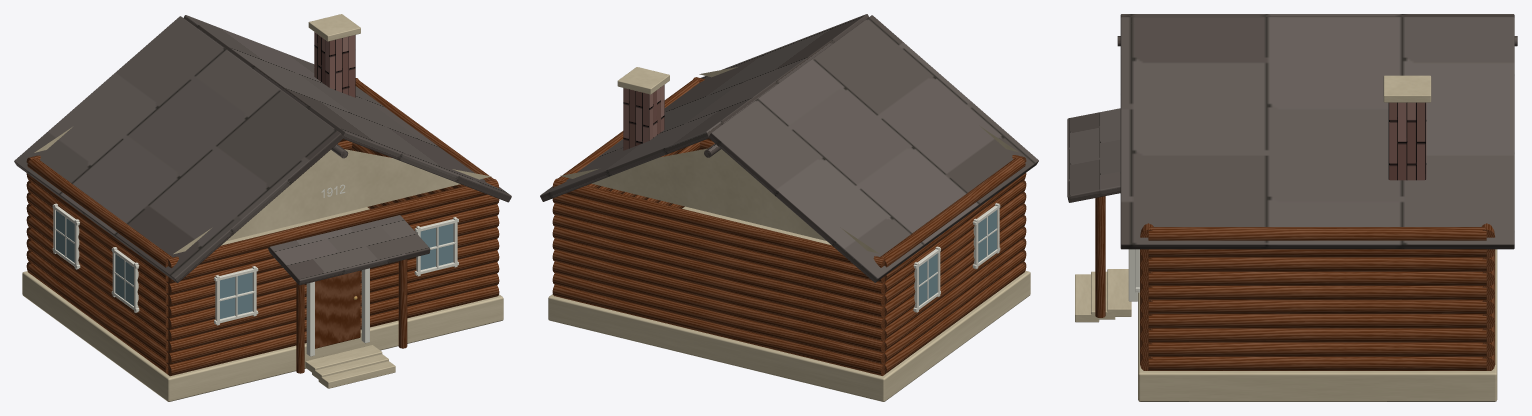
Rendered from Building_Wood_House_01_Detailed.fbx.
3 views of the same model, side by side, from view 1: azimuth 30°, elevation 25°; view 2: azimuth 150°, elevation 25°; view 3: azimuth 270°, elevation 25° (orthographic). The views are drawn at different scales.
Visible parts, largest first — view 1: Building_Wood_House_01_Roof_-1, Building_Wood_House_01, Building_Wood_House_01_Foundation, Building_Wood_House_01_Gable_-2.93, Building_Wood_House_01_Porch_Roof, Building_Wood_House_01_Log_FrontBack_9_-2.92, Building_Wood_House_01_Log_FrontBack_1_-2.92, Building_Wood_House_01_Log_FrontBack_2_-2.92, Building_Wood_House_01_Door, Building_Wood_House_01_Log_FrontBack_0_-2.92, Building_Wood_House_01_Log_FrontBack_3_-2.92, Building_Wood_House_01_Log_Side_9_-3.92 (+25 smaller); view 2: Building_Wood_House_01_Roof_-1, Building_Wood_House_01_Foundation, Building_Wood_House_01, Building_Wood_House_01_Gable_2.93, Building_Wood_House_01_Log_FrontBack_9_2.92, Building_Wood_House_01_Log_FrontBack_4_2.92, Building_Wood_House_01_Log_FrontBack_1_2.92, Building_Wood_House_01_Log_FrontBack_3_2.92, Building_Wood_House_01_Log_FrontBack_6_2.92, Building_Wood_House_01_Log_FrontBack_2_2.92, Building_Wood_House_01_Log_FrontBack_5_2.92, Building_Wood_House_01_Log_FrontBack_7_2.92 (+17 smaller); view 3: Building_Wood_House_01, Building_Wood_House_01_Foundation, Building_Wood_House_01_Log_Side_3_3.92, Building_Wood_House_01_Log_Side_1_3.92, Building_Wood_House_01_Log_Side_2_3.92, Building_Wood_House_01_Log_Side_7_3.92, Building_Wood_House_01_Log_Side_4_3.92, Building_Wood_House_01_Log_Side_5_3.92, Building_Wood_House_01_Log_Side_0_3.92, Building_Wood_House_01_Log_Side_6_3.92, Building_Wood_House_01_Log_Side_9_3.92, Building_Wood_House_01_Porch_Roof (+6 smaller).
Boxes of the visible parts, x1=… form: Building_Wood_House_01_Roof_-1: x1=14, y1=16, x2=343, y2=282; Building_Wood_House_01: x1=183, y1=15, x2=511, y2=388; Building_Wood_House_01_Foundation: x1=22, y1=207, x2=503, y2=401; Building_Wood_House_01_Gable_-2.93: x1=173, y1=149, x2=491, y2=254; Building_Wood_House_01_Porch_Roof: x1=268, y1=215, x2=430, y2=285; Building_Wood_House_01_Log_FrontBack_9_-2.92: x1=166, y1=179, x2=499, y2=268; Building_Wood_House_01_Log_FrontBack_1_-2.92: x1=166, y1=273, x2=499, y2=364; Building_Wood_House_01_Log_FrontBack_2_-2.92: x1=166, y1=262, x2=499, y2=352; Building_Wood_House_01_Door: x1=315, y1=270, x2=360, y2=348; Building_Wood_House_01_Log_FrontBack_0_-2.92: x1=166, y1=285, x2=499, y2=376; Building_Wood_House_01_Log_FrontBack_3_-2.92: x1=166, y1=250, x2=499, y2=341; Building_Wood_House_01_Log_Side_9_-3.92: x1=27, y1=157, x2=172, y2=267; Building_Wood_House_01_Roof_-1: x1=709, y1=15, x2=1038, y2=282; Building_Wood_House_01_Foundation: x1=548, y1=206, x2=1030, y2=401; Building_Wood_House_01: x1=540, y1=14, x2=868, y2=201; Building_Wood_House_01_Gable_2.93: x1=560, y1=148, x2=879, y2=253; Building_Wood_House_01_Log_FrontBack_9_2.92: x1=552, y1=178, x2=885, y2=267; Building_Wood_House_01_Log_FrontBack_4_2.92: x1=552, y1=238, x2=885, y2=329; Building_Wood_House_01_Log_FrontBack_1_2.92: x1=552, y1=273, x2=886, y2=364; Building_Wood_House_01_Log_FrontBack_3_2.92: x1=552, y1=250, x2=885, y2=341; Building_Wood_House_01_Log_FrontBack_6_2.92: x1=552, y1=215, x2=886, y2=306; Building_Wood_House_01_Log_FrontBack_2_2.92: x1=552, y1=261, x2=885, y2=352; Building_Wood_House_01_Log_FrontBack_5_2.92: x1=552, y1=227, x2=885, y2=318; Building_Wood_House_01_Log_FrontBack_7_2.92: x1=552, y1=203, x2=885, y2=294; Building_Wood_House_01: x1=1075, y1=17, x2=1514, y2=322; Building_Wood_House_01_Foundation: x1=1138, y1=249, x2=1497, y2=401; Building_Wood_House_01_Log_Side_3_3.92: x1=1148, y1=314, x2=1486, y2=328; Building_Wood_House_01_Log_Side_1_3.92: x1=1148, y1=342, x2=1486, y2=356; Building_Wood_House_01_Log_Side_2_3.92: x1=1148, y1=328, x2=1486, y2=342; Building_Wood_House_01_Log_Side_7_3.92: x1=1148, y1=257, x2=1486, y2=271; Building_Wood_House_01_Log_Side_4_3.92: x1=1148, y1=300, x2=1486, y2=314; Building_Wood_House_01_Log_Side_5_3.92: x1=1148, y1=286, x2=1486, y2=300; Building_Wood_House_01_Log_Side_0_3.92: x1=1148, y1=357, x2=1486, y2=370; Building_Wood_House_01_Log_Side_6_3.92: x1=1148, y1=272, x2=1486, y2=285; Building_Wood_House_01_Log_Side_9_3.92: x1=1148, y1=227, x2=1486, y2=240; Building_Wood_House_01_Porch_Roof: x1=1067, y1=108, x2=1120, y2=202.
Size of the model in its own units: 824 by 546 by 777.
Materials: 7 (4 with a texture image).
